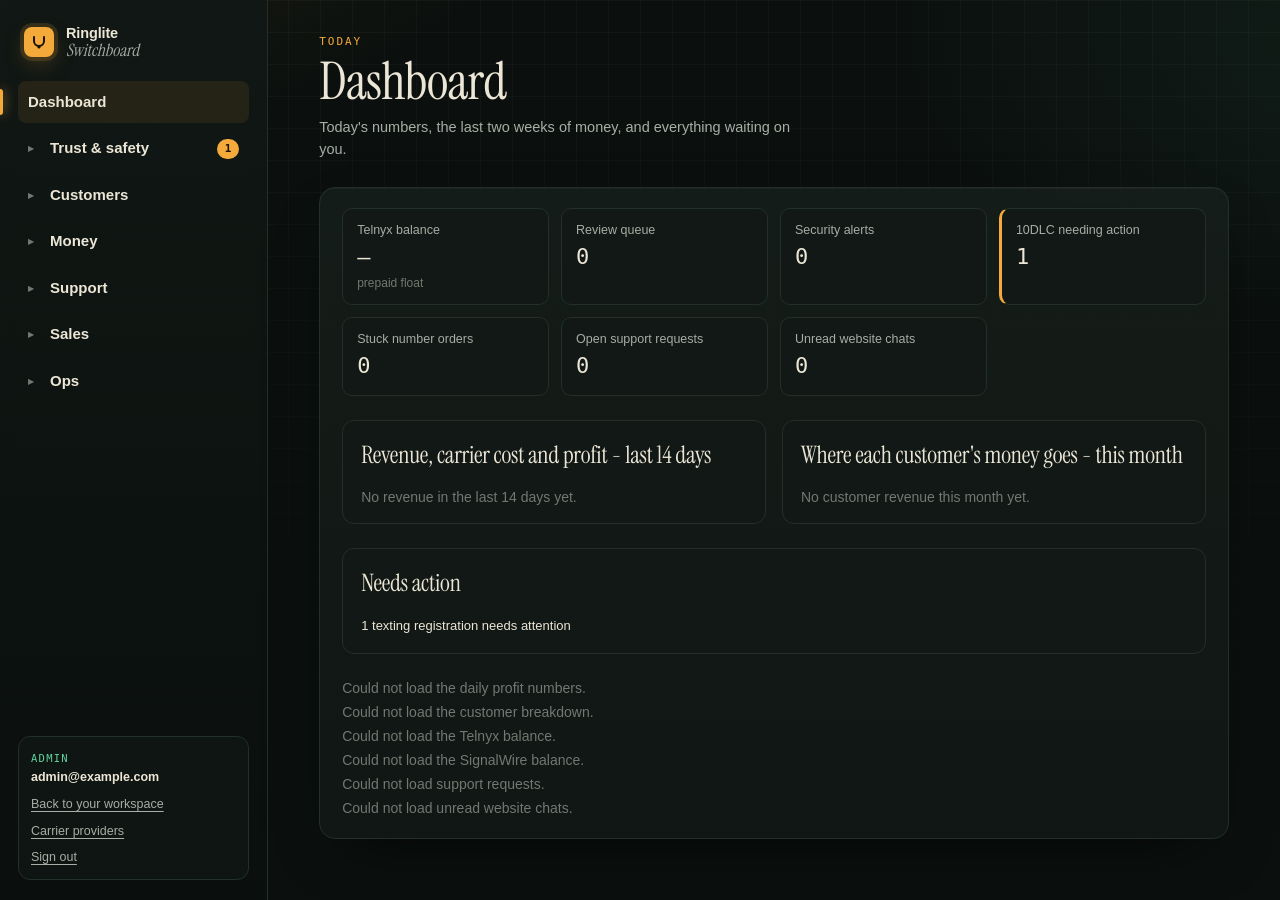
OpsPage - texting registrations › shows a reconcile failure verbatim
The width and height of the screenshot is (1280, 900).
Click the button "▸ Trust & safety 1" at (134, 149), box [18,127,249,170]
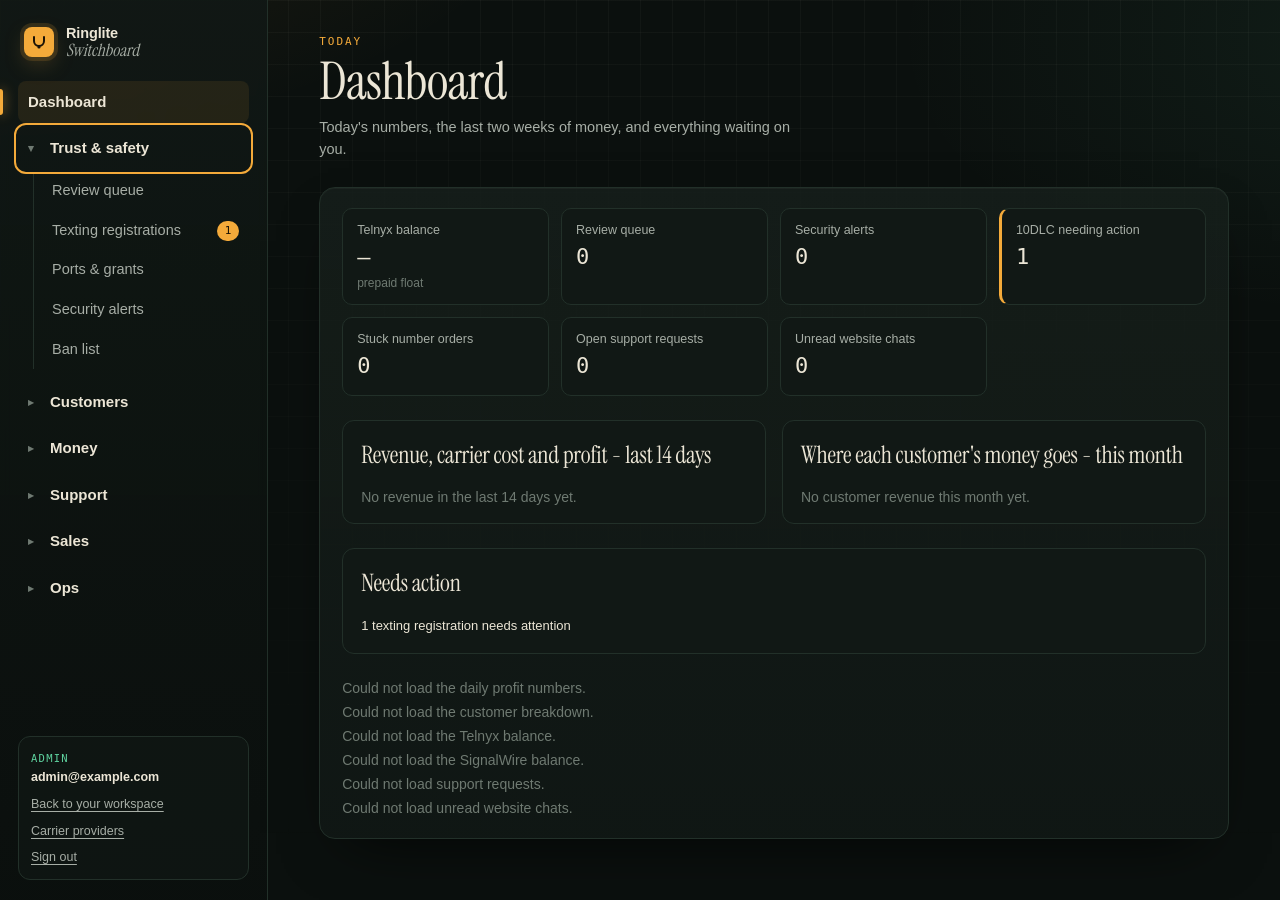
Click the link "Texting registrations 1" at (146, 231), box [52,221,239,241]
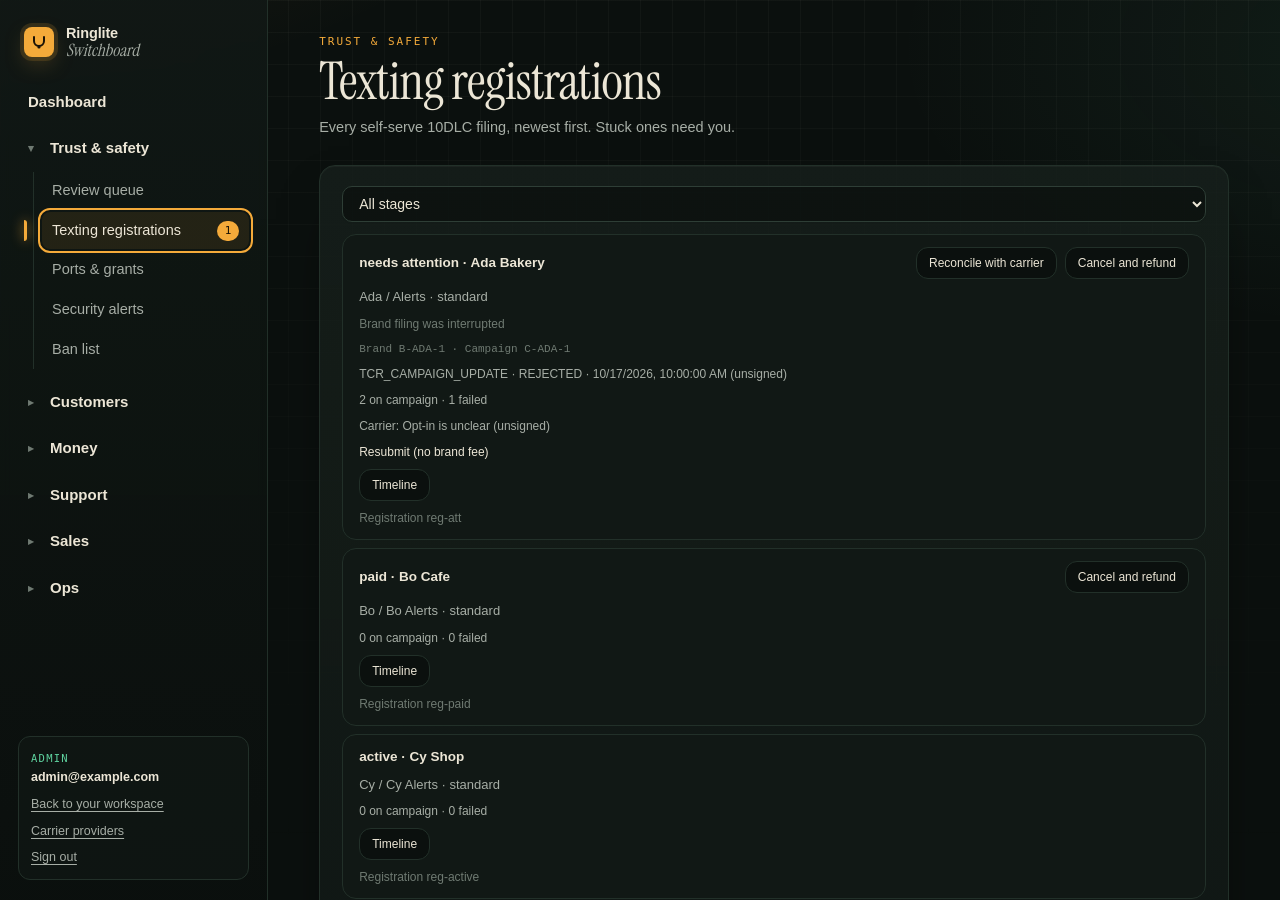
Click the button "Reconcile with carrier" at (986, 263), box [916,247,1057,279]
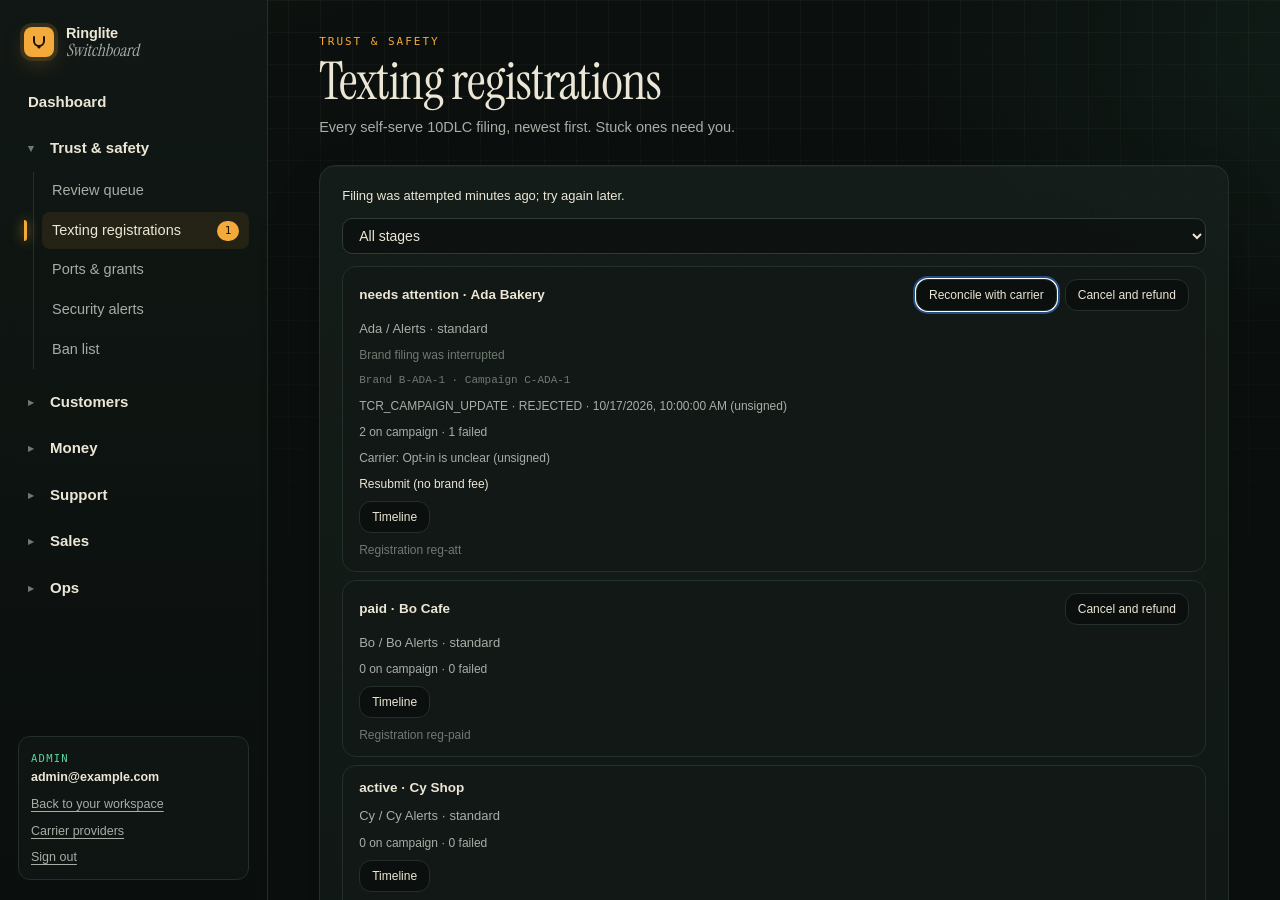
Now the message reads "Filing was attempted minutes ago; try again later.", box [342,188,625,203]
